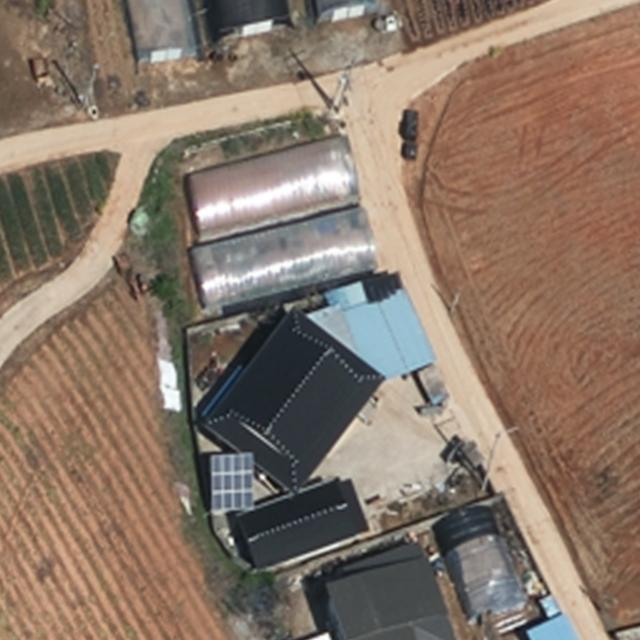panel: (206, 448, 257, 512)
